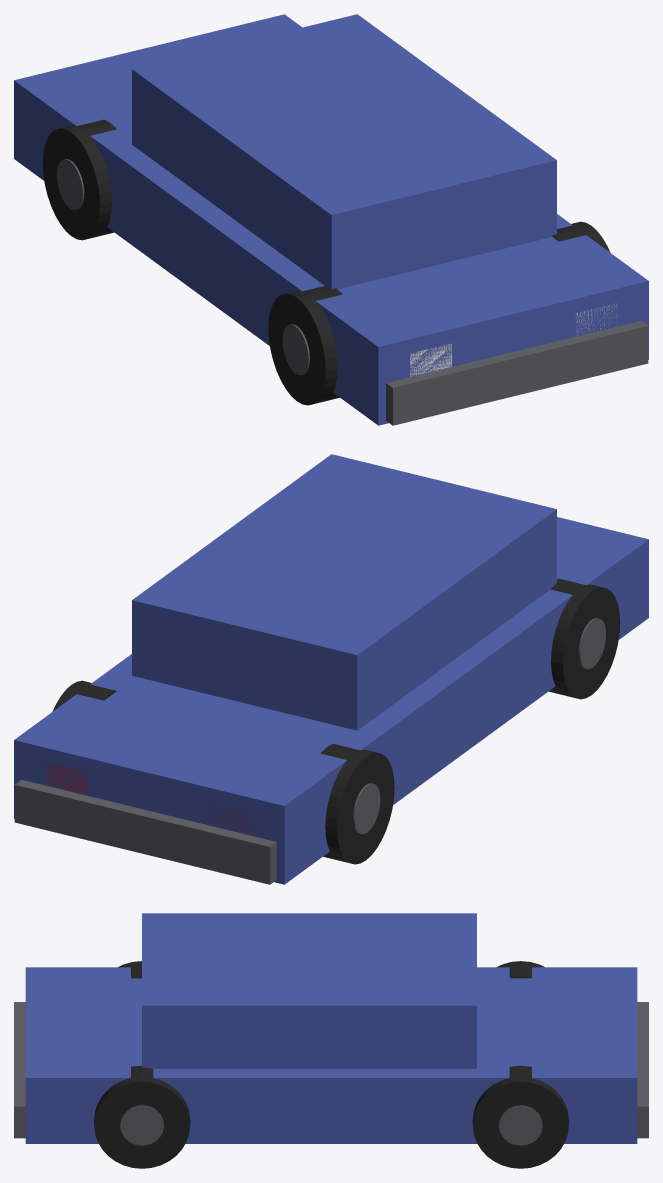
Rendered from mobil.glb.
3 renders of one model, top to bottom at view 1: azimuth 30°, elevation 25°; view 2: azimuth 150°, elevation 25°; view 3: azimuth 270°, elevation 25°, orthographic. The views are drawn at different scales.
Parts seen in each view (by area): view 1: Mobil; view 2: Mobil; view 3: Mobil.
Boxes of the visible parts, <box> form: Mobil: <box>14,14,648,425</box>; Mobil: <box>14,454,648,884</box>; Mobil: <box>14,913,648,1168</box>.
Bounding box in the file's own units: 1.98 × 1.13 × 4.36.
